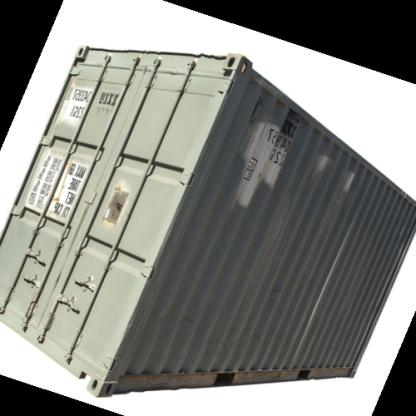Damage: (237, 110, 291, 209), (94, 181, 130, 221), (202, 330, 258, 354), (307, 148, 329, 176), (341, 167, 359, 199), (264, 280, 290, 298), (178, 310, 194, 326)
